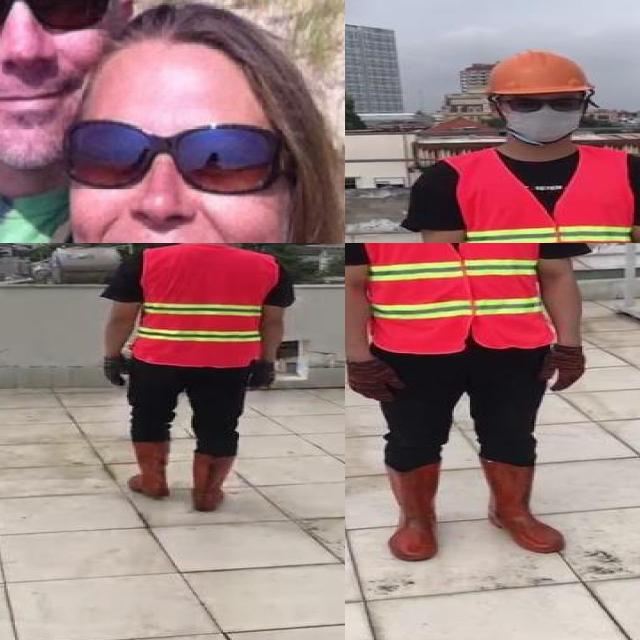boots: (479, 460, 568, 552), (383, 459, 443, 561), (191, 452, 234, 509), (128, 441, 170, 499)
face_mask: (500, 92, 585, 138)
face_nomask: (54, 112, 297, 243), (0, 0, 104, 124)
glasses: (59, 115, 278, 204), (0, 0, 115, 39), (498, 90, 585, 116)
hand_glove: (347, 357, 406, 401), (538, 346, 588, 391), (100, 356, 134, 385), (252, 362, 274, 391)
head_helmet: (474, 52, 599, 98)
head_nohelmet: (57, 0, 309, 89)
person: (345, 243, 606, 573), (97, 243, 293, 513), (403, 47, 640, 243)
vest: (354, 243, 557, 352), (453, 147, 640, 243), (136, 246, 274, 367)
